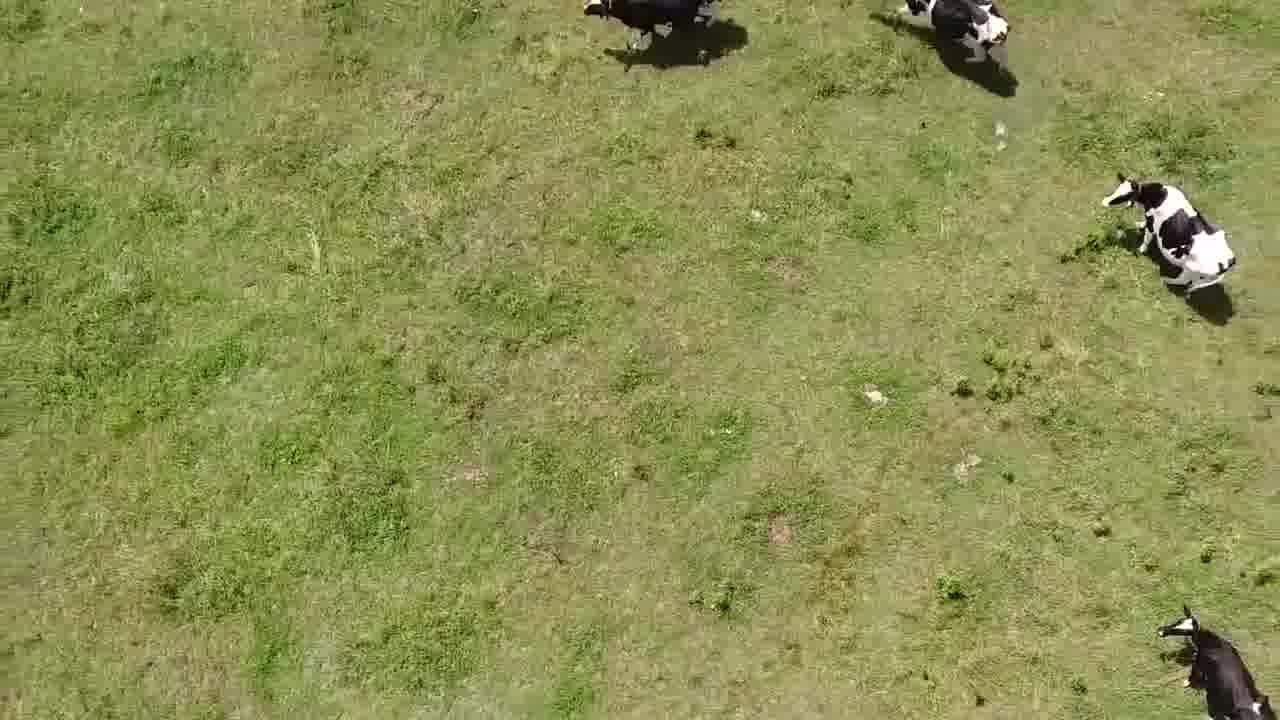cow: (1092, 167, 1249, 312), (1155, 603, 1280, 720), (893, 0, 1016, 72), (581, 0, 735, 42)
